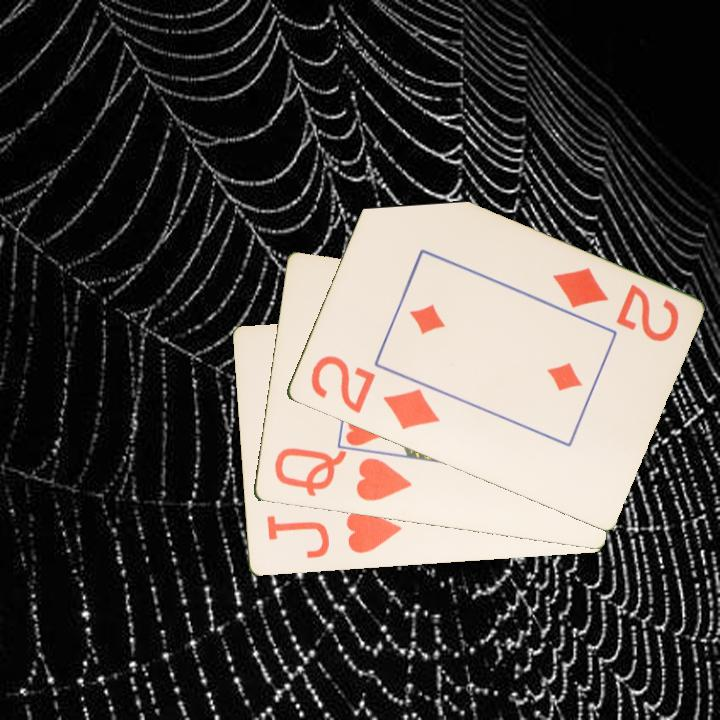2d: (306, 352, 443, 433), (549, 264, 682, 345)
Jh: (262, 507, 405, 562)
Qh: (270, 444, 414, 505)
